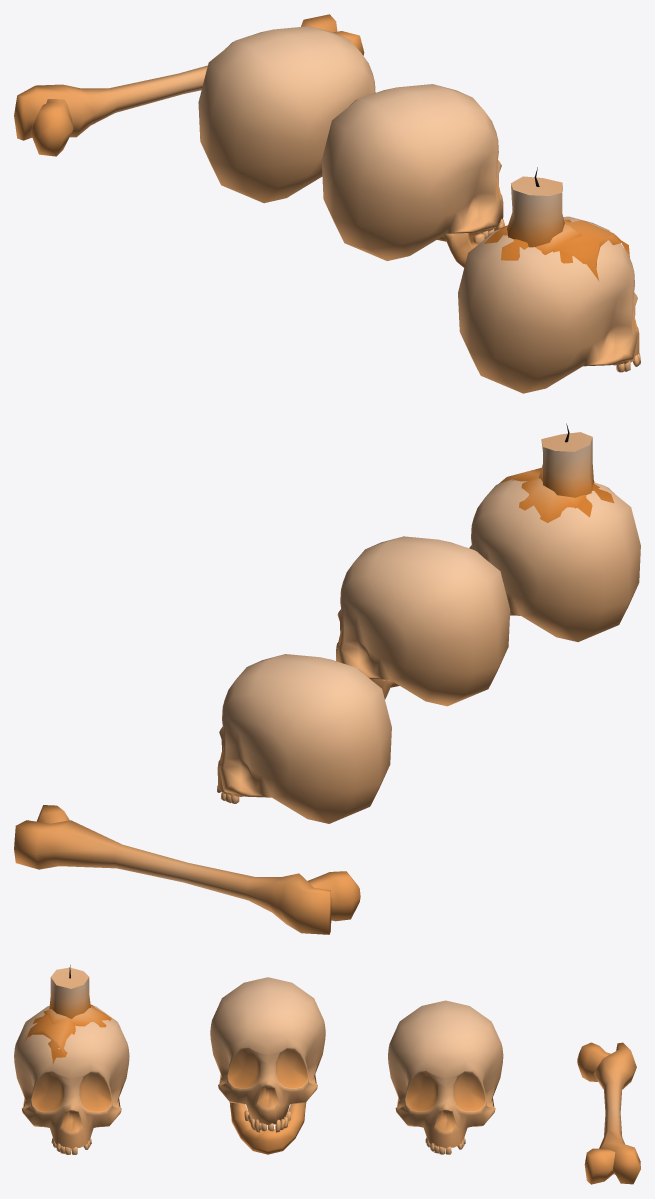
File: Bones.fbx
The picture shows the model from 3 angles, top to bottom: view 1: azimuth 30°, elevation 25°; view 2: azimuth 150°, elevation 25°; view 3: azimuth 270°, elevation 25°; orthographic projection. The views are drawn at different scales.
Parts seen in each view (by area): view 1: Skull_Candle, Skull, Skull.001, Bone; view 2: Skull_Candle, Skull.001, Skull, Bone; view 3: Skull, Skull_Candle, Skull.001, Bone.
Boxes of the visible parts, <box> form: Skull_Candle: <box>458,167,640,393</box>; Skull: <box>321,84,504,267</box>; Skull.001: <box>198,26,375,203</box>; Bone: <box>14,14,364,156</box>; Skull_Candle: <box>469,423,640,641</box>; Skull.001: <box>217,654,391,823</box>; Skull: <box>336,536,510,706</box>; Bone: <box>14,805,360,934</box>; Skull: <box>210,977,325,1154</box>; Skull_Candle: <box>14,965,129,1154</box>; Skull.001: <box>388,1000,503,1154</box>; Bone: <box>577,1042,640,1184</box>.
Bounding box in the file's own units: 0.4155 × 0.2628 × 0.9429.
